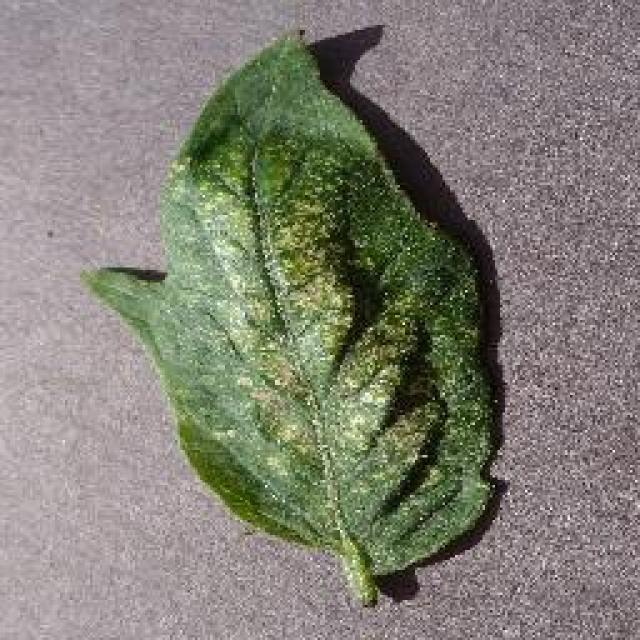Tomato spider mites leaf: (88, 29, 502, 574)
